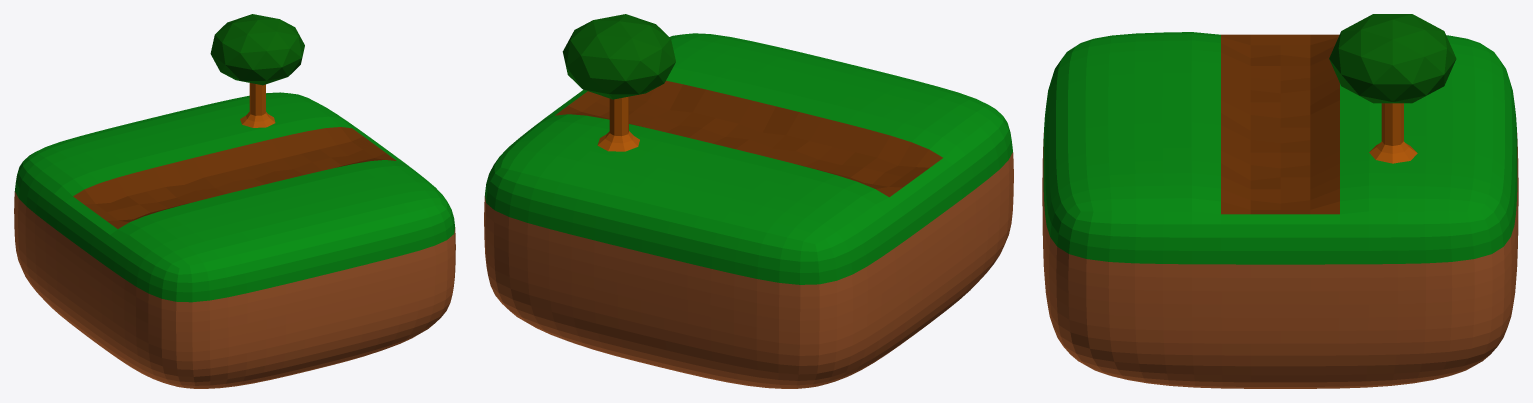
File: platformDroitForet.fbx
3 renders of one model, left to right at view 1: azimuth 30°, elevation 25°; view 2: azimuth 150°, elevation 25°; view 3: azimuth 270°, elevation 25°, orthographic. The views are drawn at different scales.
Visible parts, largest first — view 1: foret forward; view 2: foret forward; view 3: foret forward.
Boxes of the visible parts, x1,y1,x2,y2 form: foret forward: (14,14,455,388); foret forward: (484,14,1013,388); foret forward: (1042,14,1518,388).
Bounding box in the file's own units: 200 × 161 × 200.
